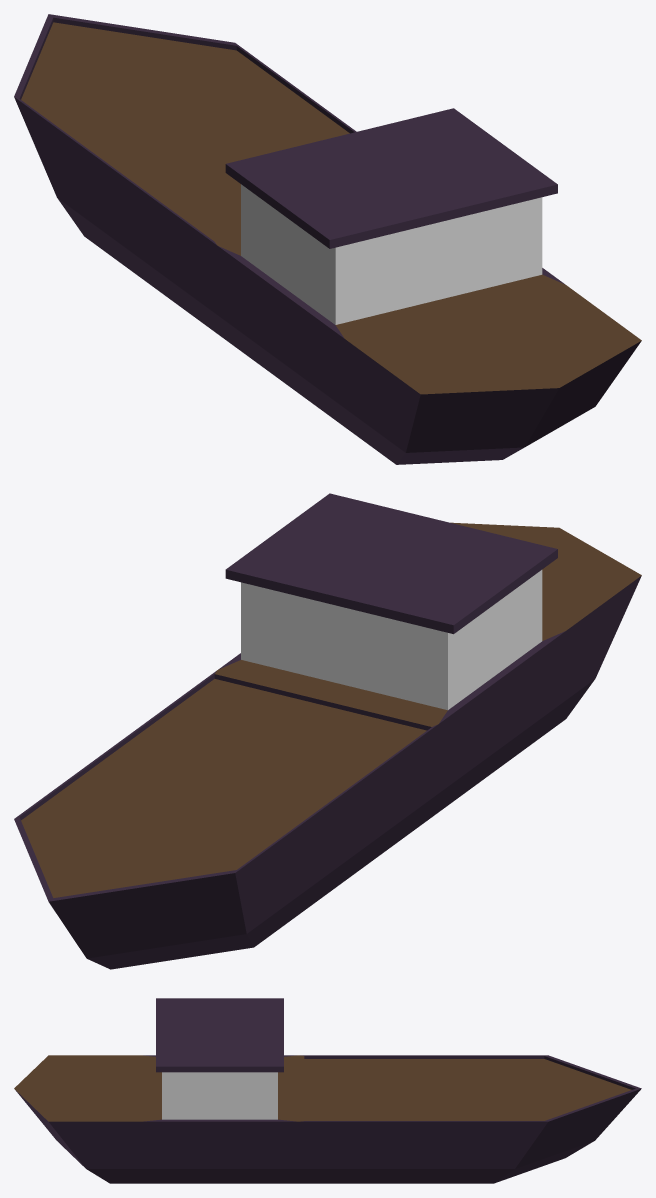
File: player_boat.glb
The picture shows the model from 3 angles, top to bottom: view 1: azimuth 30°, elevation 25°; view 2: azimuth 150°, elevation 25°; view 3: azimuth 270°, elevation 25°; orthographic projection. The views are drawn at different scales.
Visible parts, largest first — view 1: Cube; view 2: Cube; view 3: Cube.
Part boxes in pixels (x1,y1,x2,y2): Cube: (14, 14, 641, 464); Cube: (14, 493, 641, 969); Cube: (14, 998, 641, 1183).
Bounding box in the file's own units: 5.16 × 4.42 × 20.
